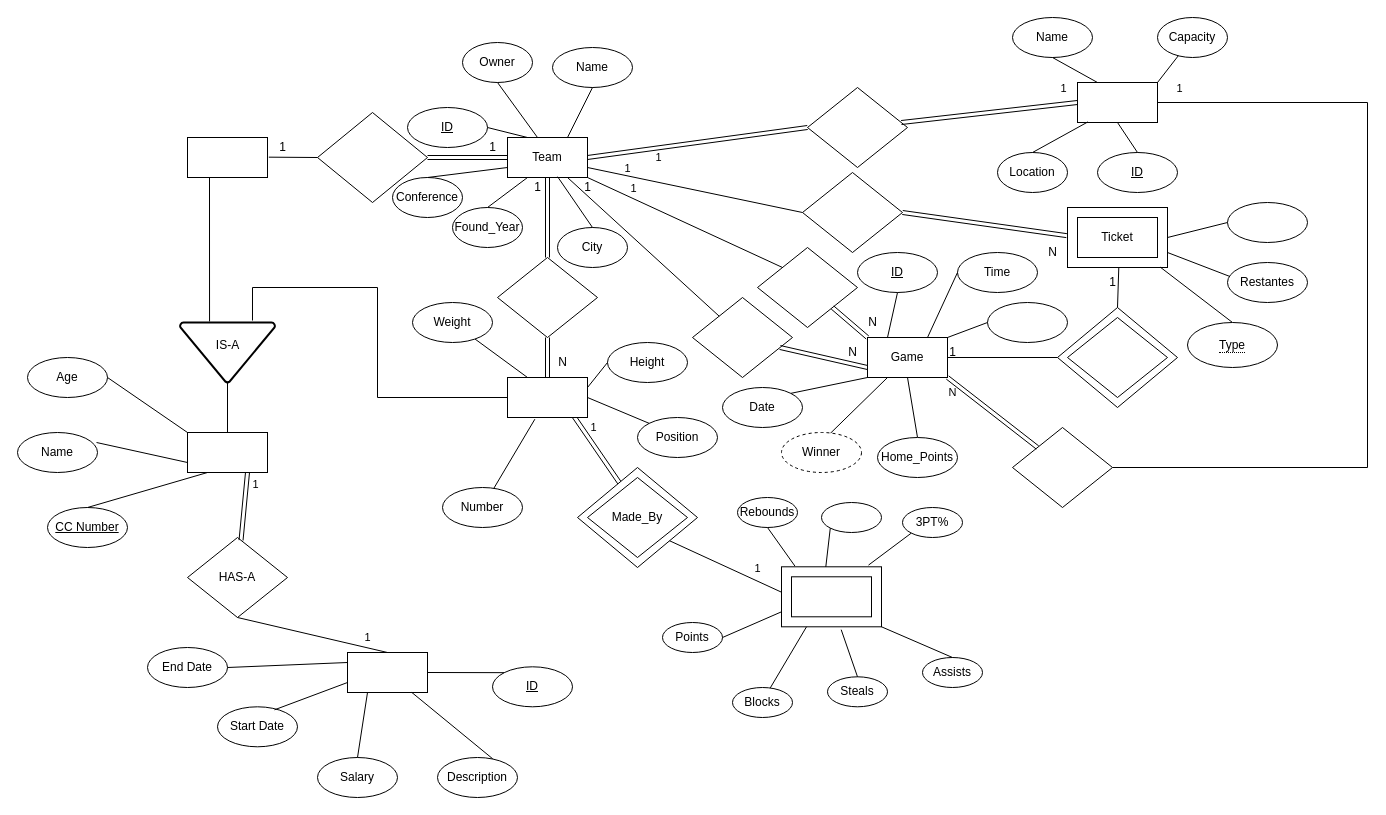
Image size: 1386x815. Some labels were removed from this diagram. Each missing label, with the centre of its shape:
"At" belongs at [1062,467].
"Average Individual Numbers" belongs at [831,596].
"Away_Points" belongs at [1027,322].
"Coach" belongs at [227,157].
"Contract" belongs at [387,672].
"FG%" belongs at [851,517].
"For" belongs at [1117,357].
"Located in" belongs at [857,127].
"Main Coached by" belongs at [372,157].
"Person" belongs at [227,452].
"Player" belongs at [547,397].
"Plays at Home" belongs at [742,337].
"Plays Away" belongs at [807,287].
"Plays for" belongs at [547,297].
"Price" belongs at [1267,222].
"Sells" belongs at [852,212].
"Stadium" belongs at [1117,102].
